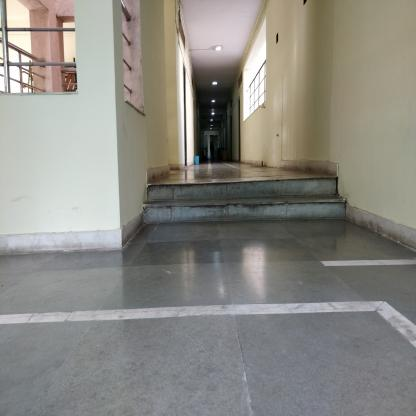stairs: (149, 176, 342, 226)
